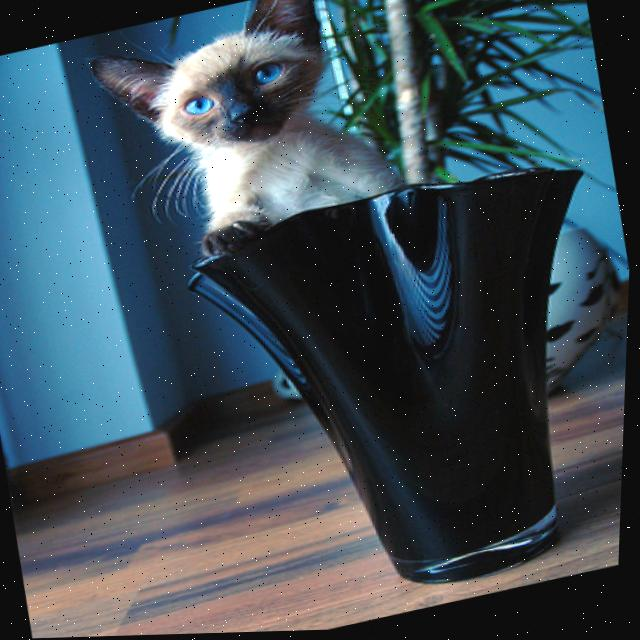Siamese: (75, 0, 422, 283)
